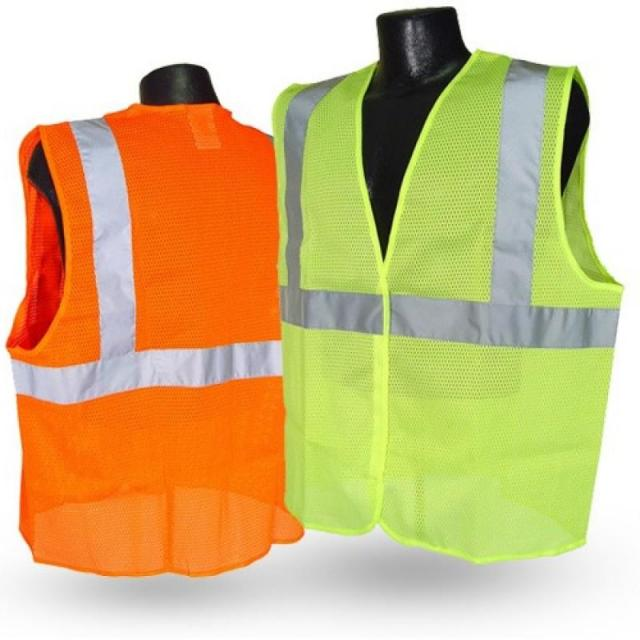Reflective-Jacket: (249, 36, 636, 572), (4, 83, 304, 591)
